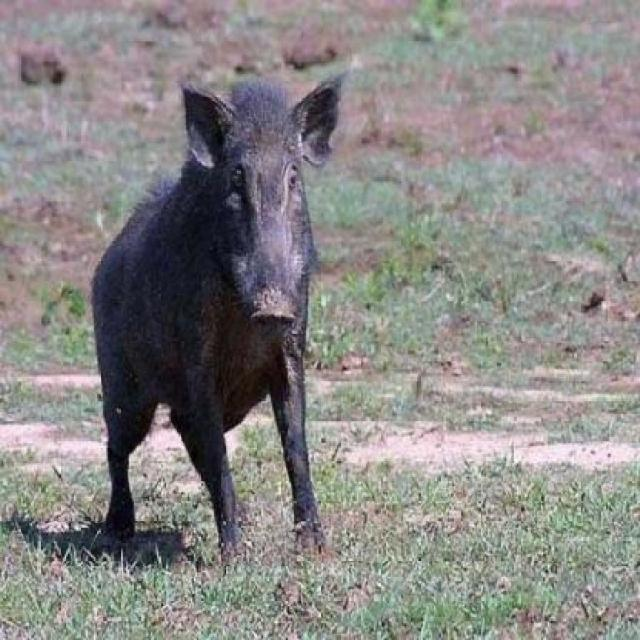Boar: (0, 58, 542, 632)
